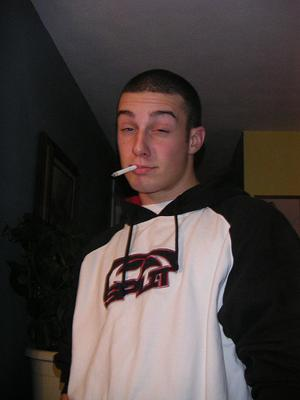person: (55, 69, 300, 400)
